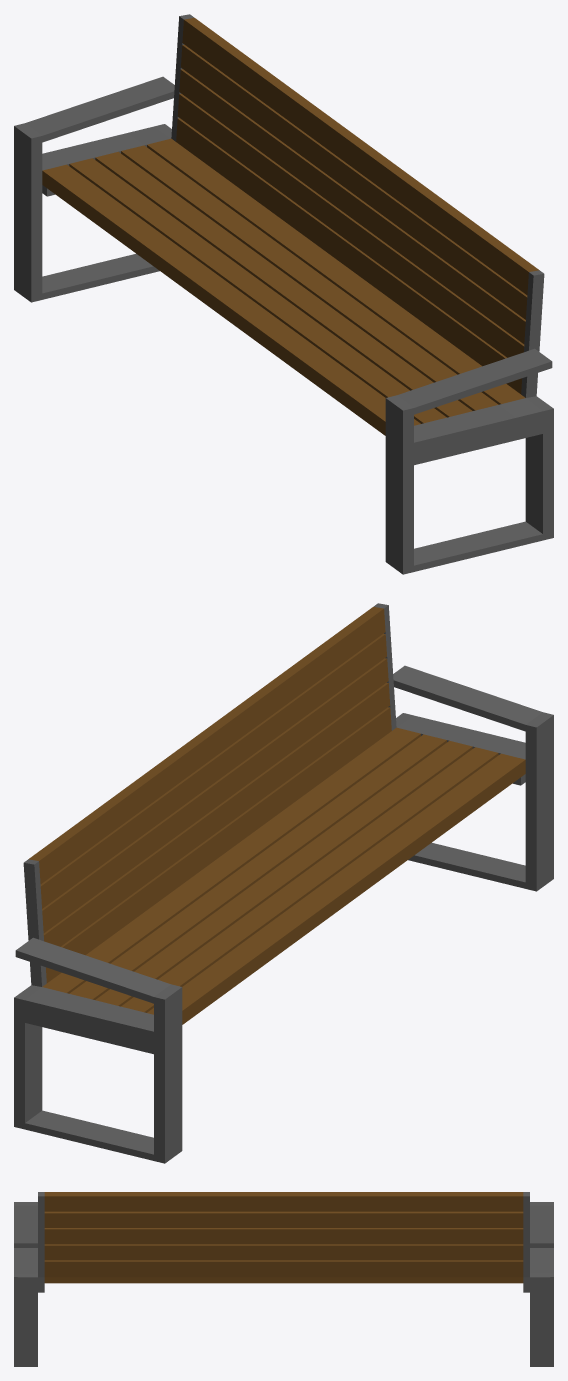
The model's file is Bench.fbx.
The picture shows the model from 3 angles, top to bottom: view 1: azimuth 30°, elevation 25°; view 2: azimuth 150°, elevation 25°; view 3: azimuth 270°, elevation 25°; orthographic projection. The views are drawn at different scales.
Parts seen in each view (by area): view 1: bank; view 2: bank; view 3: bank.
Boxes of the visible parts, x1,y1,x2,y2 form: bank: (14,14,553,574); bank: (14,603,553,1163); bank: (14,1192,553,1366).
Bounding box in the file's own units: 70.52 × 106 × 300.
